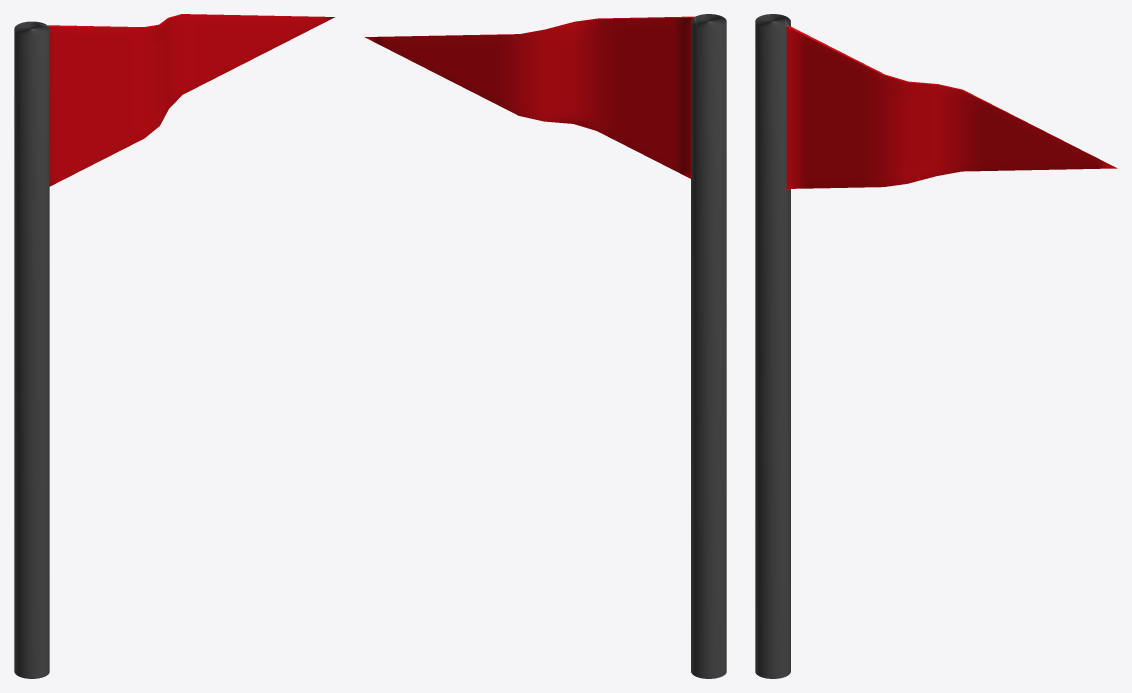
File: Flag3(T).fbx
The picture shows the model from 3 angles, left to right: view 1: azimuth 30°, elevation 25°; view 2: azimuth 150°, elevation 25°; view 3: azimuth 330°, elevation 25°; orthographic projection.
Visible parts, largest first — view 1: Flag3; view 2: Flag3; view 3: Flag3.
Part boxes in pixels (bbox=[...]): Flag3: bbox=[14, 14, 334, 678]; Flag3: bbox=[364, 14, 726, 678]; Flag3: bbox=[755, 14, 1117, 678].
Size of the model in its own units: 110 by 200 by 15.77.
